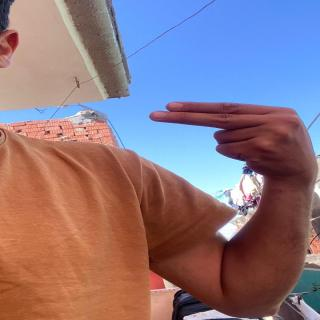AYN: (146, 87, 320, 182)
